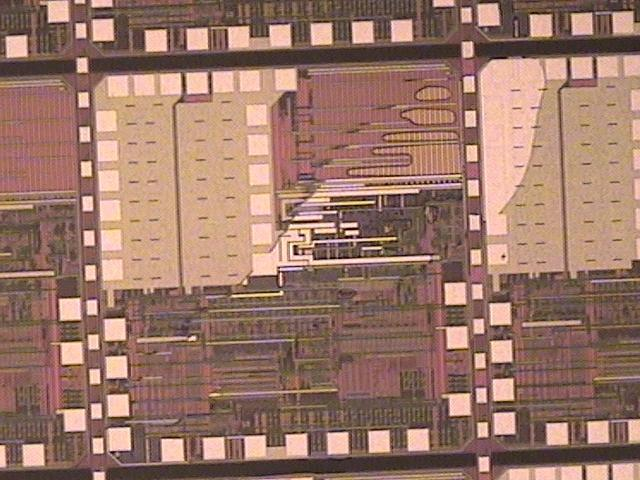COATING BAD: (113, 48, 553, 469)
